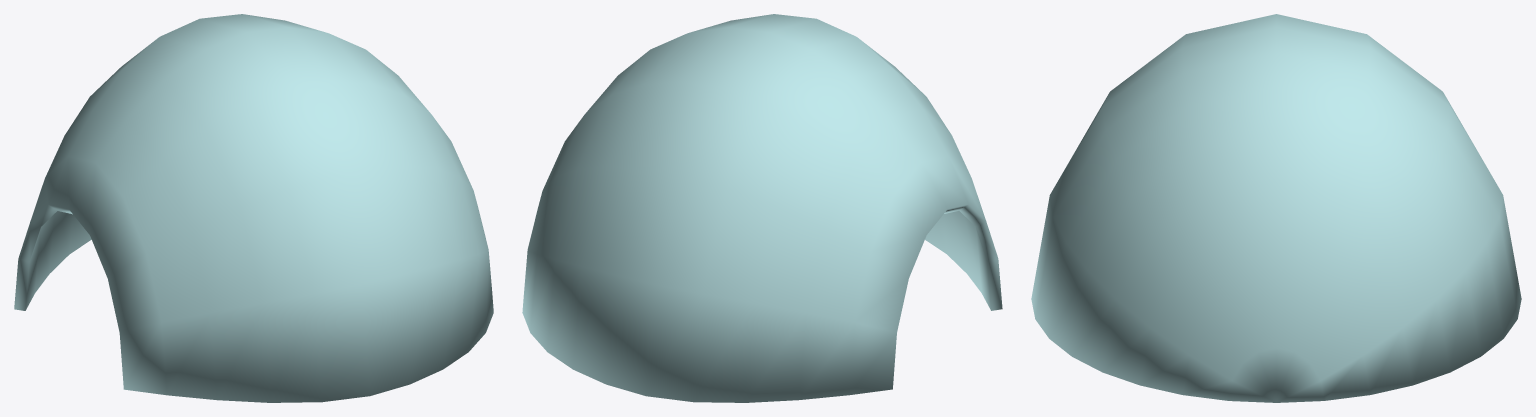
Rendered from kamakura.fbx.
3 renders of one model, left to right at view 1: azimuth 30°, elevation 25°; view 2: azimuth 150°, elevation 25°; view 3: azimuth 270°, elevation 25°, orthographic.
Visible parts, largest first — view 1: 球.003; view 2: 球.003; view 3: 球.003.
Part boxes in pixels (<box>): 球.003: <box>14,14,493,402</box>; 球.003: <box>522,14,1002,402</box>; 球.003: <box>1031,14,1521,402</box>.
Bounding box in the file's own units: 183 × 123 × 199.
